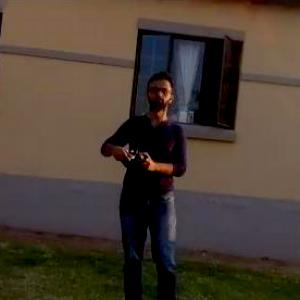follow: (96, 65, 196, 299)
